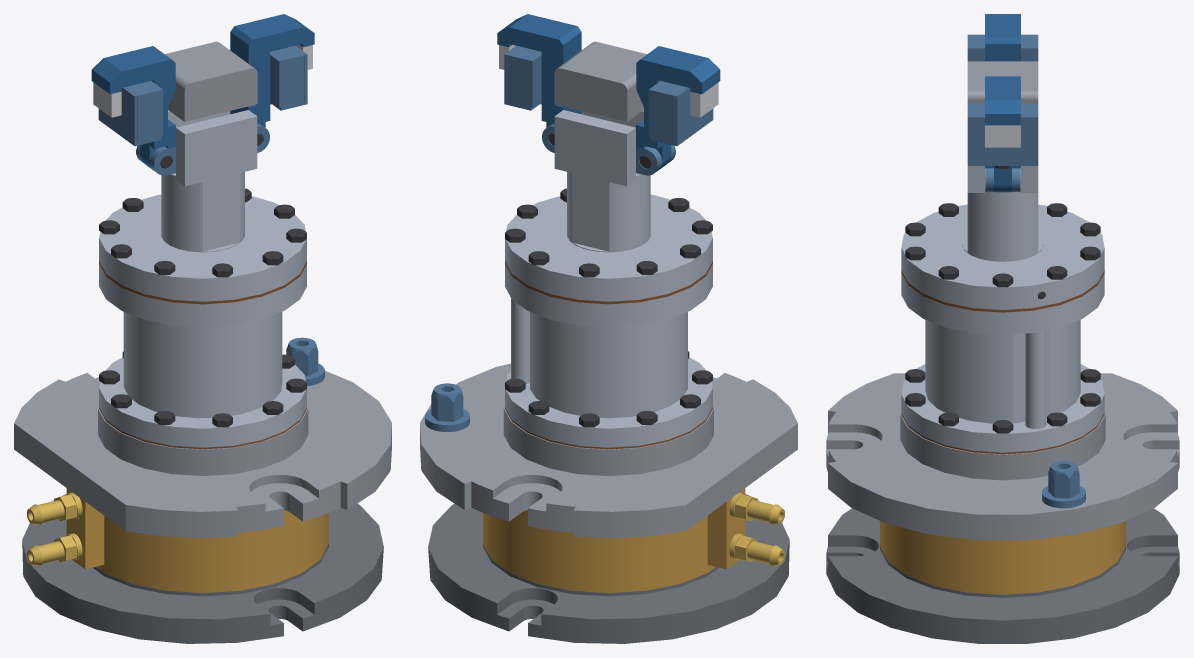
The model's file is stroke_0.glb.
3 renders of one model, left to right at view 1: azimuth 30°, elevation 25°; view 2: azimuth 150°, elevation 25°; view 3: azimuth 270°, elevation 25°, orthographic. The views are drawn at different scales.
Parts seen in each view (by area): view 1: korpus_15, gilza_18, kryshka_11, plita, vtulka_16, kolodka, rychag_5_R, rychag_5_L, korpus_fiks_R, korpus_fiks_L, skoba_8_L, palec_24 (+5 smaller); view 2: korpus_15, gilza_18, kryshka_11, plita, vtulka_16, kolodka, rychag_5_R, rychag_5_L, korpus_fiks_R, palec_24, korpus_fiks_L, trubka_13 (+6 smaller); view 3: korpus_15, plita, gilza_18, kryshka_11, vtulka_16, skoba_8_R, rychag_5_R, kolodka, trubka_13, rychag_5_L, palec_24, korpus_fiks_L (+2 smaller).
Part boxes in pixels (x1,y1,x2,y2): korpus_15: (14,371,391,537); gilza_18: (99,264,306,447); kryshka_11: (99,110,306,301); plita: (22,494,383,643); vtulka_16: (66,488,328,592); kolodka: (165,41,257,121); rychag_5_R: (230,14,314,127); rychag_5_L: (91,46,175,169); korpus_fiks_R: (270,46,304,107); korpus_fiks_L: (126,81,163,142); skoba_8_L: (98,87,161,146); palec_24: (286,337,324,386); korpus_15: (420,363,797,537); gilza_18: (505,264,712,447); kryshka_11: (505,110,712,301); plita: (428,494,789,643); vtulka_16: (483,488,745,592); kolodka: (554,41,646,121); rychag_5_R: (497,14,581,127); rychag_5_L: (636,46,720,169); korpus_fiks_R: (507,46,541,107); palec_24: (425,383,469,431); korpus_fiks_L: (648,81,685,142); trubka_13: (511,298,529,383); korpus_15: (826,373,1179,540); plita: (826,508,1179,643); gilza_18: (901,273,1104,452); kryshka_11: (901,166,1104,309); vtulka_16: (880,521,1125,594); skoba_8_R: (967,116,1038,165); rychag_5_R: (985,76,1020,192); kolodka: (967,61,1038,103); trubka_13: (1025,330,1046,428); rychag_5_L: (985,14,1020,61); palec_24: (1042,460,1085,535); korpus_fiks_L: (967,36,1038,61).
Bounding box in the file's own units: 214 × 320 × 200.
